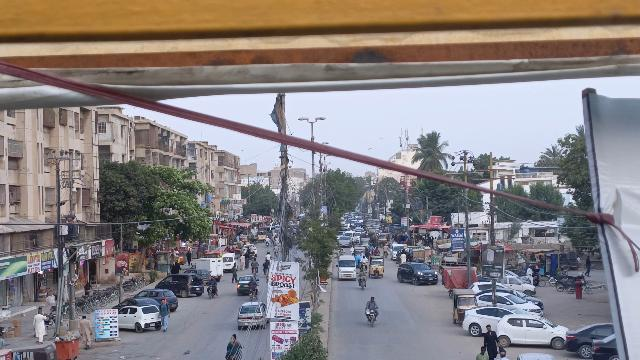Bike: (363, 308, 381, 330), (206, 283, 216, 300), (358, 275, 367, 291), (246, 286, 255, 301)
Car: (496, 314, 568, 350), (563, 322, 617, 359), (462, 305, 520, 336), (155, 273, 207, 298), (118, 304, 161, 331), (396, 262, 438, 286), (135, 288, 178, 309), (237, 301, 267, 330), (236, 275, 259, 297)
Person: (481, 323, 502, 358), (157, 298, 173, 333), (32, 309, 47, 346), (78, 314, 93, 350), (224, 334, 241, 354), (364, 296, 379, 310), (475, 346, 489, 360), (248, 277, 258, 290), (208, 275, 217, 287), (358, 267, 366, 276)
Rickshaw: (450, 287, 477, 325), (369, 255, 385, 279)
Truck: (194, 258, 225, 280)
Van: (335, 255, 359, 280)
